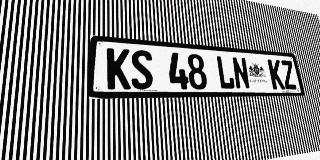4: (167, 52, 189, 89)
8: (187, 53, 208, 89)
K: (107, 48, 131, 89), (267, 59, 285, 89)
L: (215, 55, 235, 89)
N: (231, 57, 251, 89)
S: (130, 49, 154, 89)
Z: (280, 60, 297, 89)
